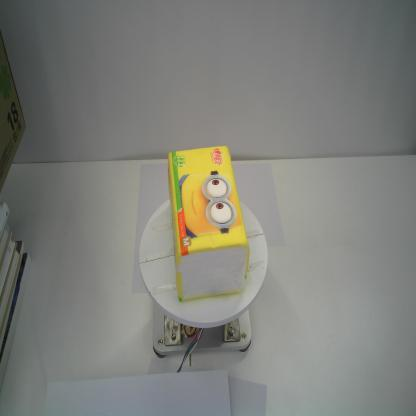Tissue: (167, 145, 250, 302)
